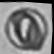correct: (0, 5, 54, 54)
